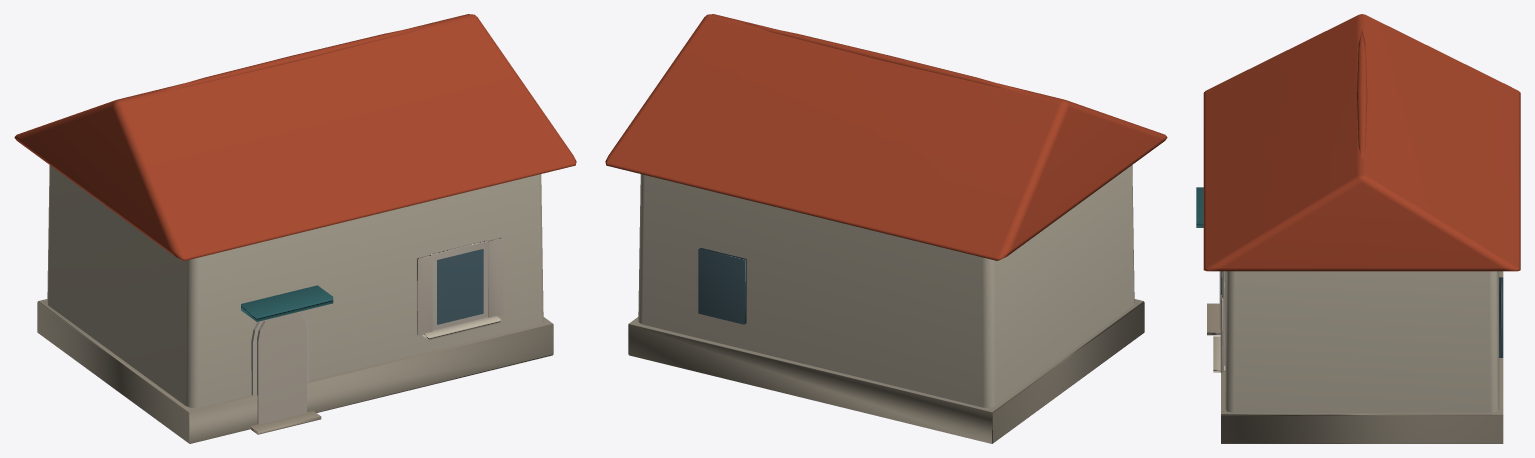
File: house_20.glb
3 renders of one model, left to right at view 1: azimuth 30°, elevation 25°; view 2: azimuth 150°, elevation 25°; view 3: azimuth 270°, elevation 25°, orthographic. The views are drawn at different scales.
Visible parts, largest first — view 1: house_20; view 2: house_20; view 3: house_20.
Part boxes in pixels (x1,y1,x2,y2): house_20: (14,14,576,443); house_20: (605,14,1167,443); house_20: (1196,14,1520,443).
Bounding box in the file's own units: 7.85 × 5.45 × 5.9.
